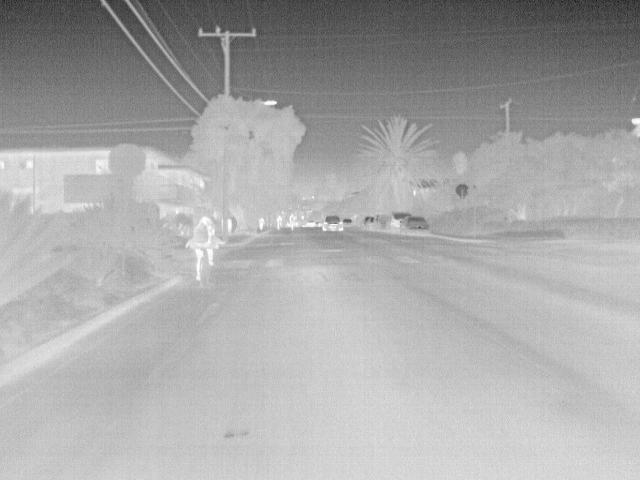car: (401, 215, 431, 235), (391, 213, 412, 232), (323, 216, 346, 232), (378, 214, 391, 230), (361, 214, 373, 228), (342, 218, 355, 230), (367, 218, 379, 230), (305, 219, 318, 228)
person: (190, 214, 216, 281), (288, 213, 299, 232), (275, 214, 285, 232), (258, 216, 267, 232)
